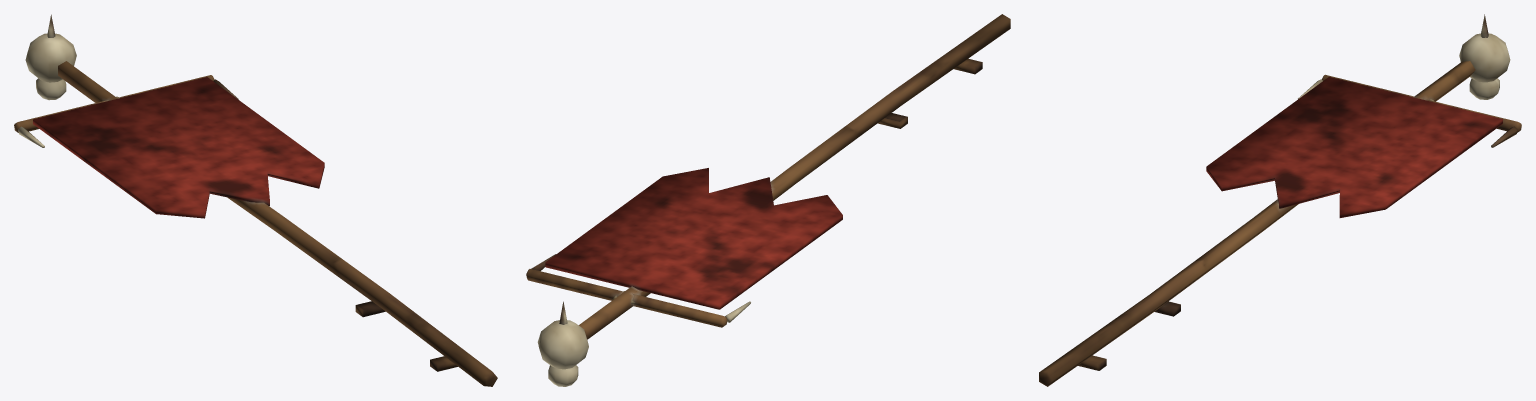
File: Prop_WarBanner.fbx
3 renders of one model, left to right at view 1: azimuth 30°, elevation 25°; view 2: azimuth 150°, elevation 25°; view 3: azimuth 330°, elevation 25°, orthographic.
Parts seen in each view (by area): view 1: Prop_WarBanner; view 2: Prop_WarBanner; view 3: Prop_WarBanner.
Boxes of the visible parts, x1=… form: Prop_WarBanner: x1=14, y1=14, x2=497, y2=386; Prop_WarBanner: x1=526, y1=14, x2=1010, y2=386; Prop_WarBanner: x1=1039, y1=14, x2=1521, y2=386.
Bounding box in the file's own units: 0.3114 × 0.1254 × 1.22.
